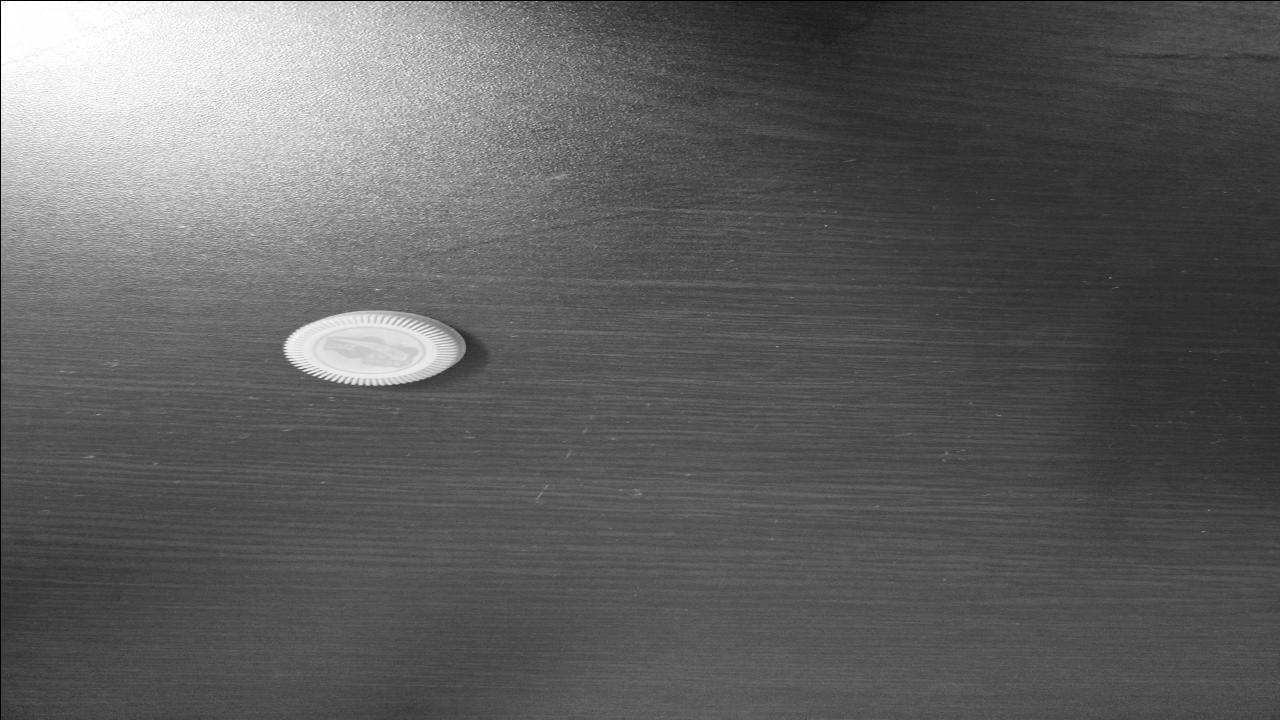bottle_cap: (282, 310, 466, 385)
